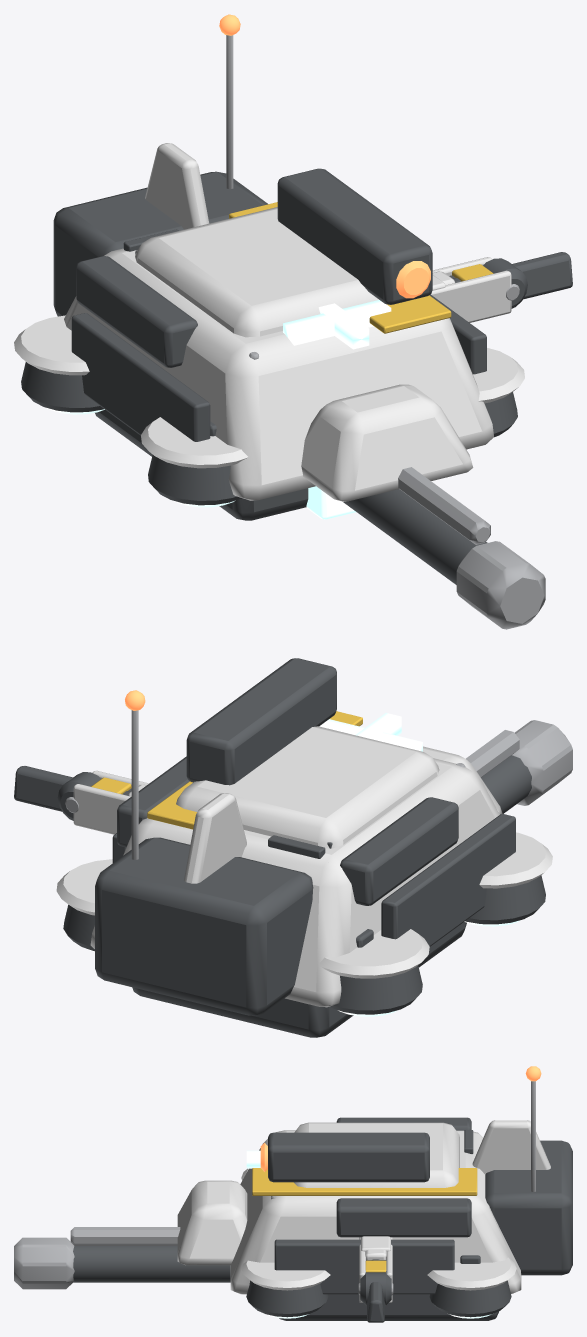
Rendered from rifle.glb.
3 renders of one model, top to bottom at view 1: azimuth 30°, elevation 25°; view 2: azimuth 150°, elevation 25°; view 3: azimuth 270°, elevation 25°, orthographic. The views are drawn at different scales.
Parts seen in each view (by area): view 1: Hull, Turret, Barrel, LegUpper, LegLower; view 2: Hull, Turret, Barrel, LegUpper, LegLower; view 3: Hull, Turret, Barrel, LegUpper, LegLower.
Boxes of the visible parts, bbox=[...] form: Hull: bbox=[14, 14, 524, 520]; Turret: bbox=[135, 168, 432, 345]; Barrel: bbox=[306, 467, 545, 629]; LegUpper: bbox=[431, 257, 527, 322]; LegLower: bbox=[432, 252, 572, 299]; Hull: bbox=[56, 690, 552, 1037]; Turret: bbox=[176, 658, 439, 848]; Barrel: bbox=[466, 720, 572, 813]; LegUpper: bbox=[57, 770, 148, 834]; LegLower: bbox=[14, 766, 146, 811]; Hull: bbox=[177, 1066, 572, 1320]; Turret: bbox=[260, 1122, 459, 1187]; Barrel: bbox=[14, 1227, 230, 1289]; LegUpper: bbox=[358, 1236, 393, 1305]; LegLower: bbox=[365, 1249, 386, 1322].
Size of the model in its own units: 0.7124 by 0.484 by 0.9933.
